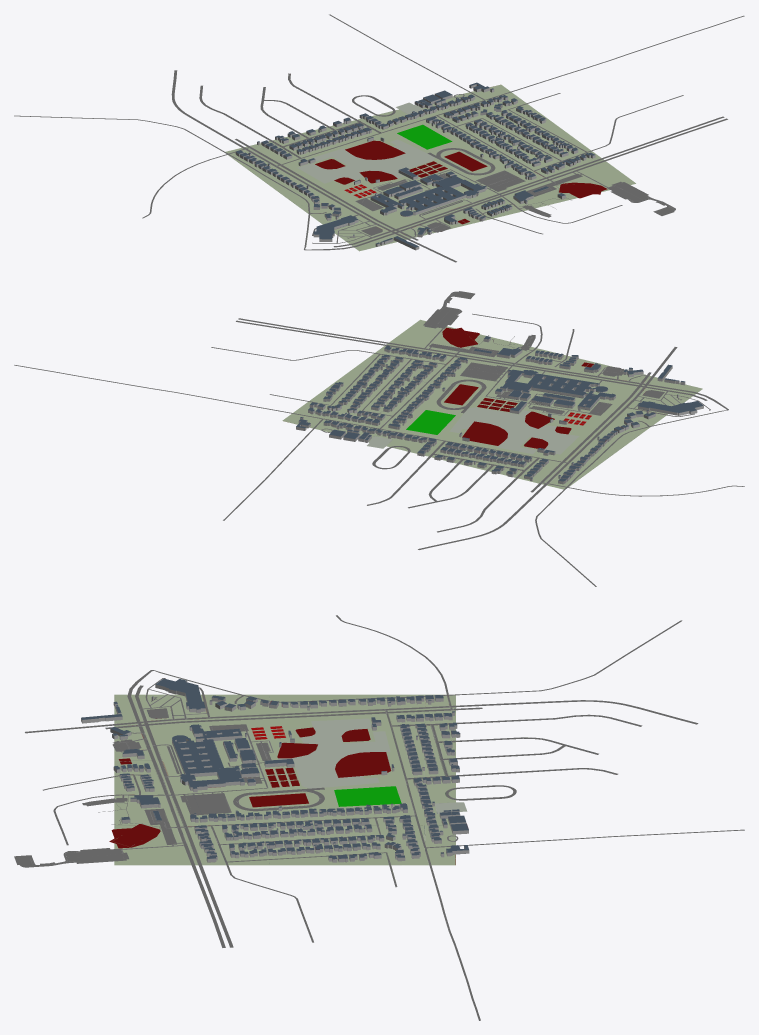
Rendered from map.obj.
3 views of the same model, one above another, from view 1: azimuth 30°, elevation 25°; view 2: azimuth 150°, elevation 25°; view 3: azimuth 270°, elevation 25° (orthographic). The views are drawn at different scales.
Visible parts, largest first — view 1: SurfaceArea580; view 2: SurfaceArea580; view 3: SurfaceArea580.
Part boxes in pixels (bbox=[...]): SurfaceArea580: bbox=[14, 14, 744, 262]; SurfaceArea580: bbox=[14, 291, 744, 586]; SurfaceArea580: bbox=[14, 615, 744, 1020].
Bounding box in the file's own units: 1855 × 7.5 × 1412.
Materials: 1 (1 with a texture image).
